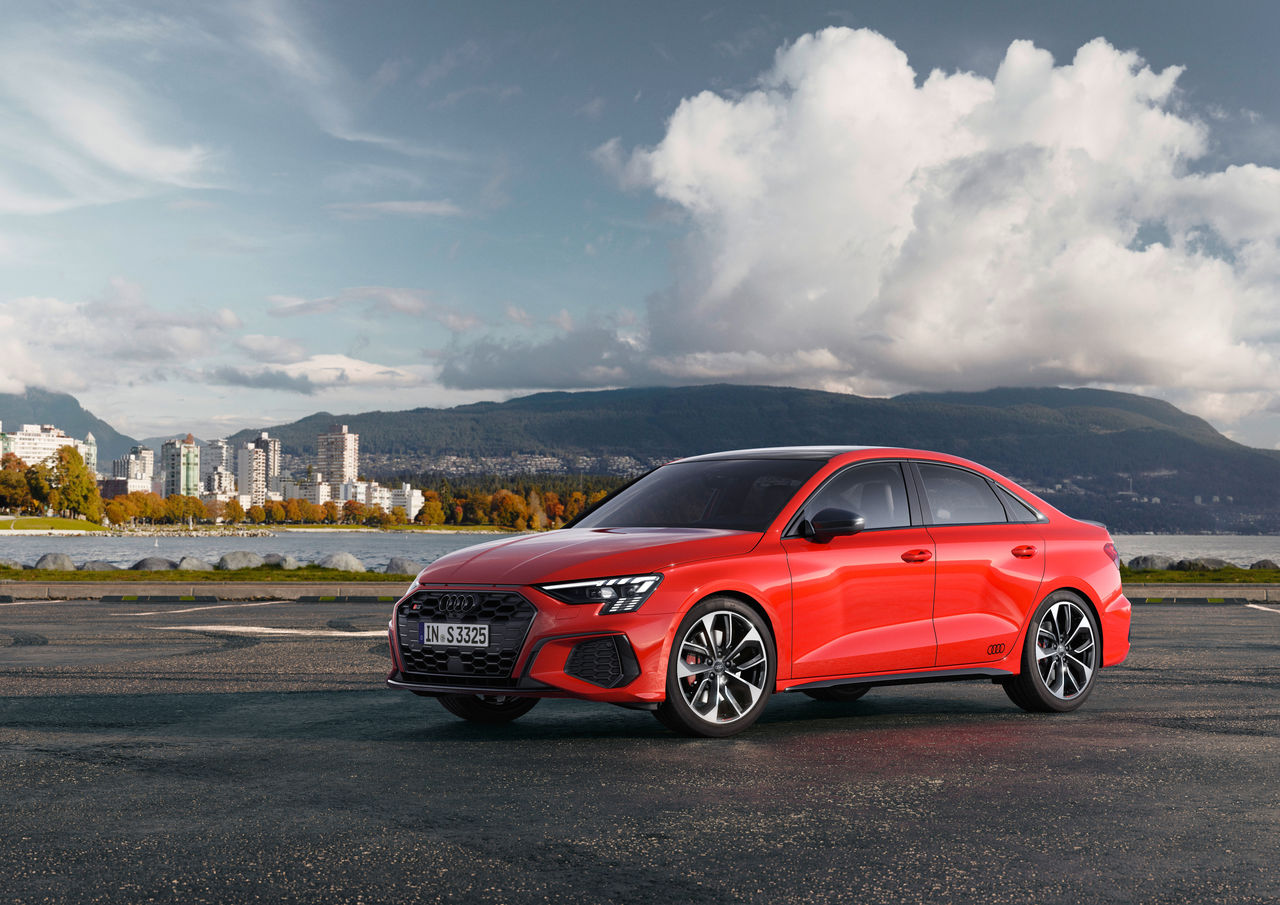car: (387, 443, 1132, 739)
